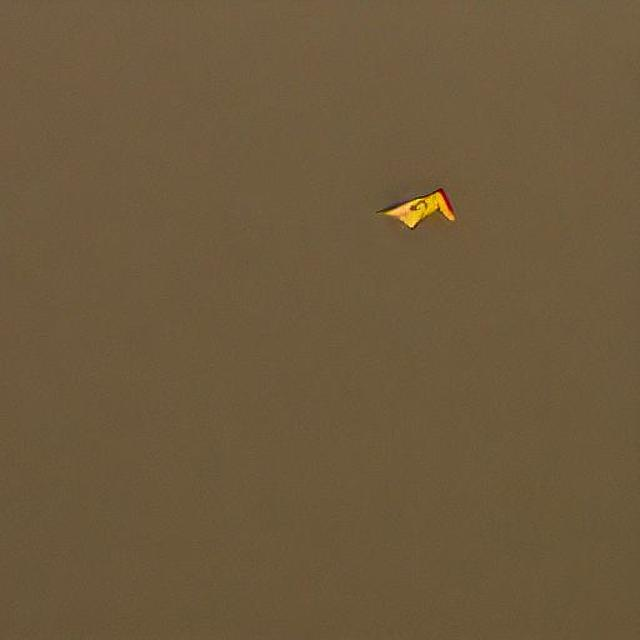floating object: (372, 182, 460, 231)
